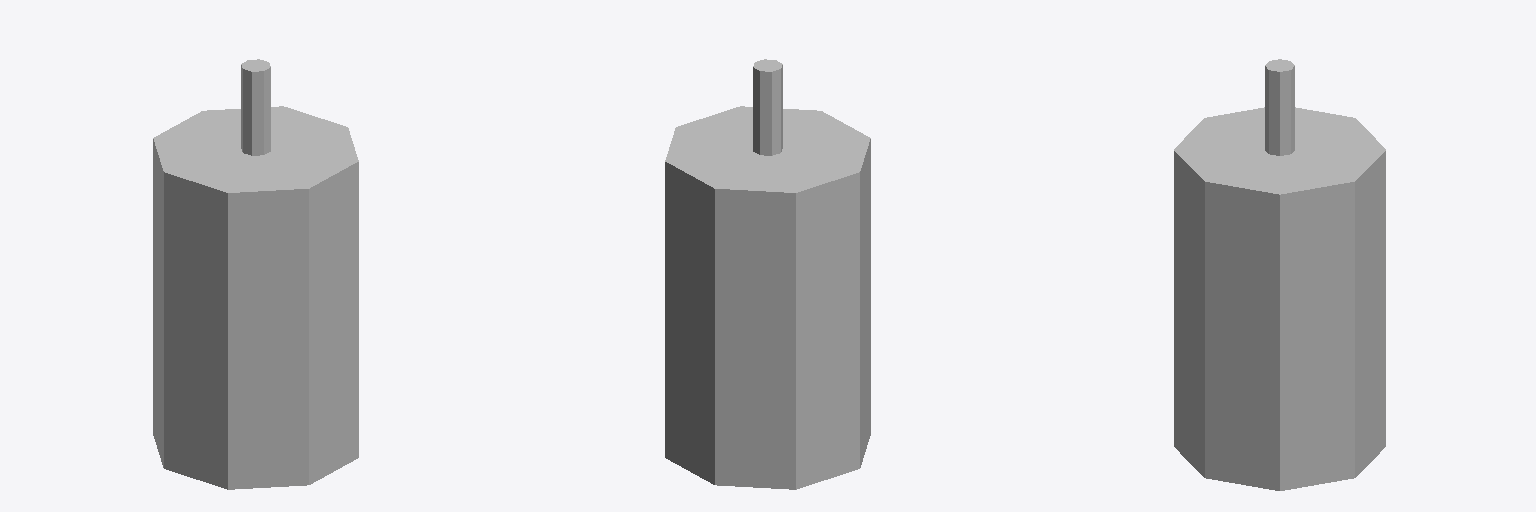
File: candle-med.obj
3 renders of one model, left to right at view 1: azimuth 30°, elevation 25°; view 2: azimuth 150°, elevation 25°; view 3: azimuth 270°, elevation 25°, orthographic.
Parts seen in each view (by area): view 1: candle-med; view 2: candle-med; view 3: candle-med.
Part boxes in pixels (left/top/right/bottom): candle-med: left=153, top=59, right=358, bottom=489; candle-med: left=665, top=59, right=870, bottom=489; candle-med: left=1174, top=59, right=1385, bottom=490.
Bounding box in the file's own units: 0.247 × 0.4874 × 0.247.